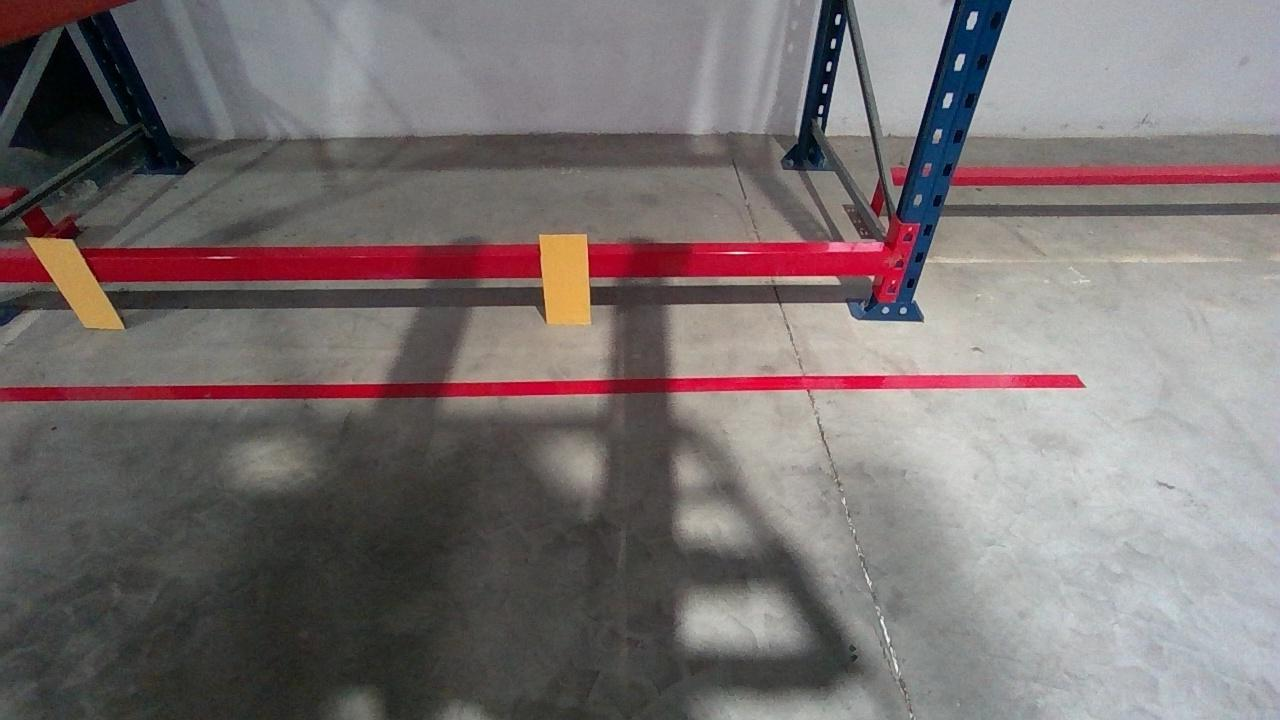h_rack: (0, 251, 886, 281)
orange_strip: (22, 238, 123, 328), (537, 233, 592, 324)
red_line: (2, 372, 1083, 401)
